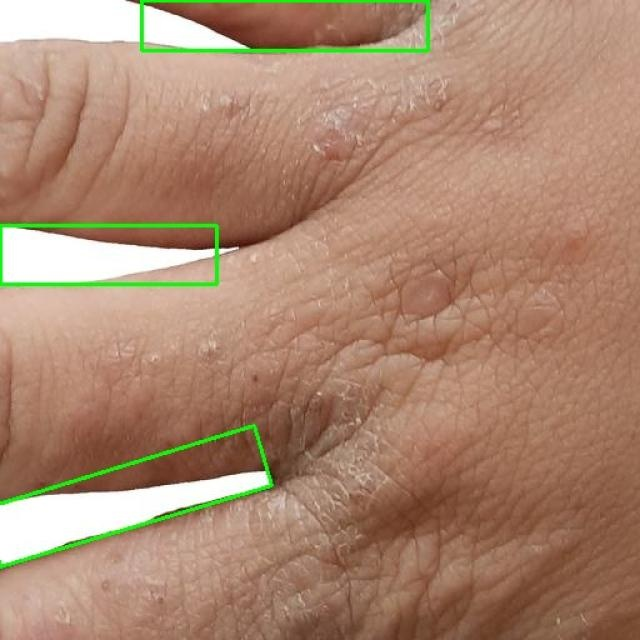Scabies: (0, 426, 274, 572), (141, 0, 428, 50), (0, 226, 218, 285)
